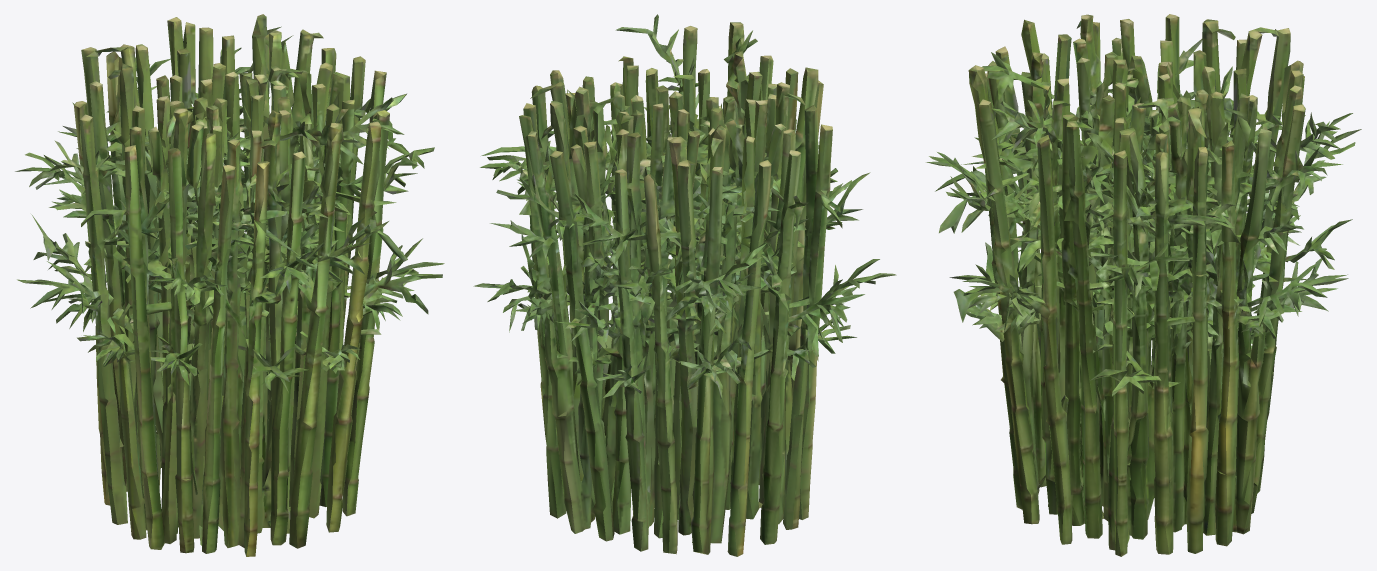
File: bamboo-grove_textured.glb
3 views of the same model, side by side, from view 1: azimuth 30°, elevation 25°; view 2: azimuth 150°, elevation 25°; view 3: azimuth 270°, elevation 25° (orthographic). The views are drawn at different scales.
Parts seen in each view (by area): view 1: geometry_0; view 2: geometry_0; view 3: geometry_0.
Part boxes in pixels (x1,y1,x2,y2): geometry_0: [15, 14, 444, 556]; geometry_0: [473, 14, 896, 556]; geometry_0: [926, 14, 1361, 556].
Size of the model in its own units: 1.69 by 1.8 by 1.58.
1 material, 1 textured.
